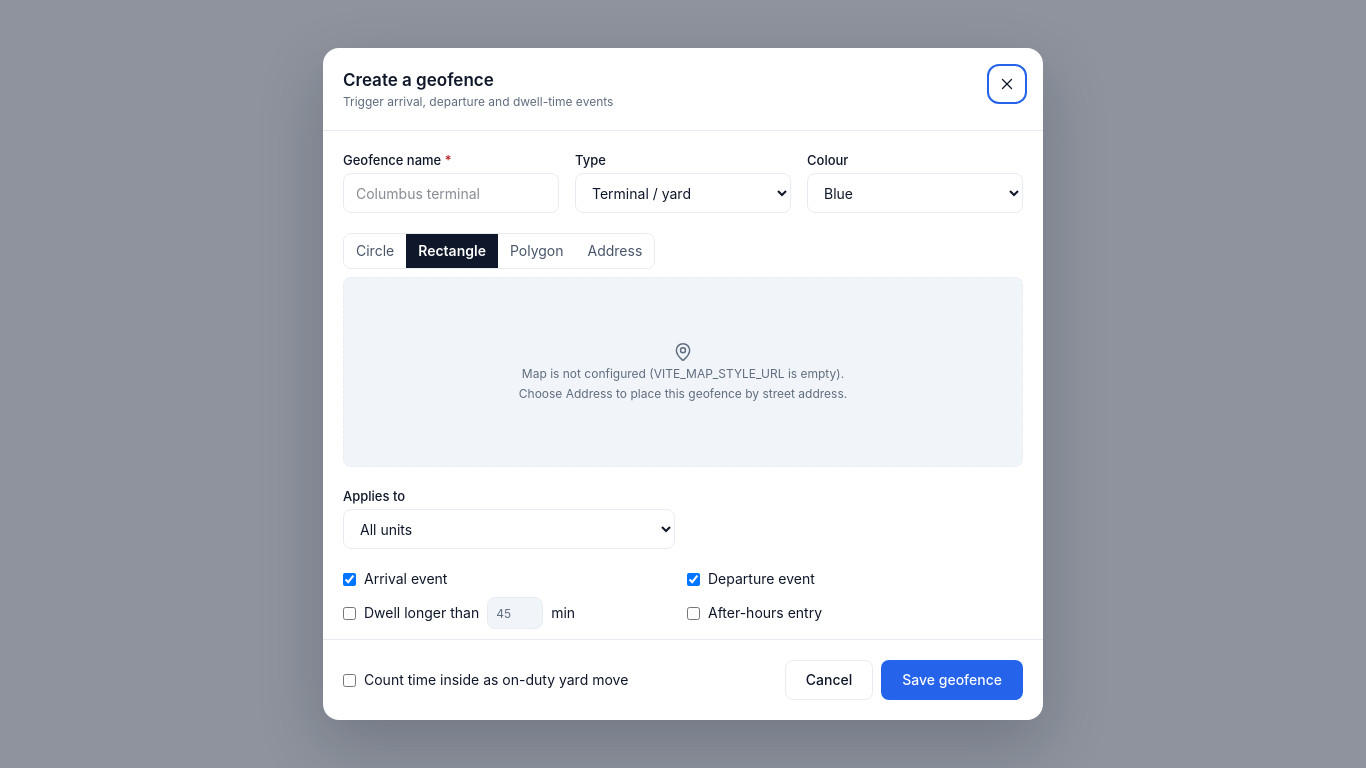
Test: 11.1 Create a geofence › surfaces GEOCODER_NOT_CONFIGURED in the in-modal banner
The width and height of the screenshot is (1366, 768).
Click the button "Address": [615, 251] box [576,234,654,268]
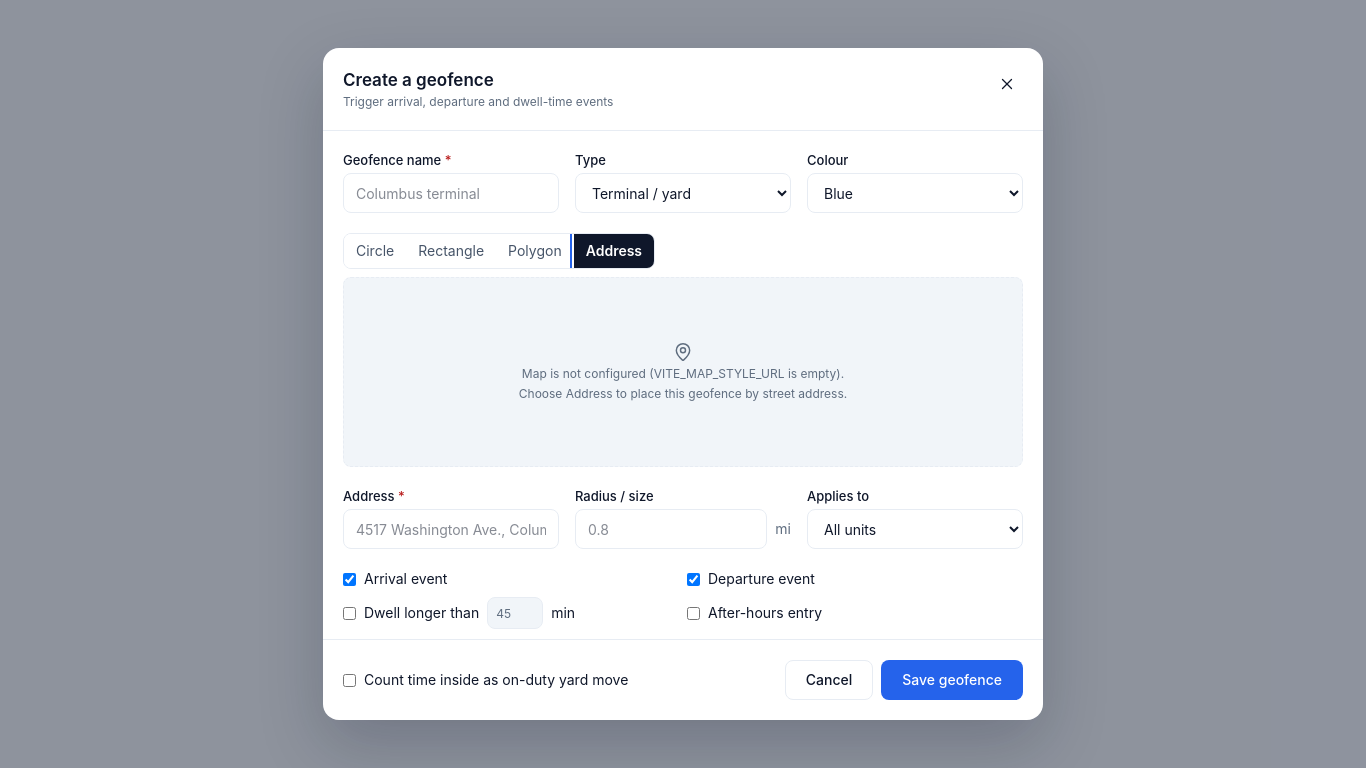
In the field with placeholder "Columbus terminal": [451, 193] box [343,173,559,213], type "Yard A"
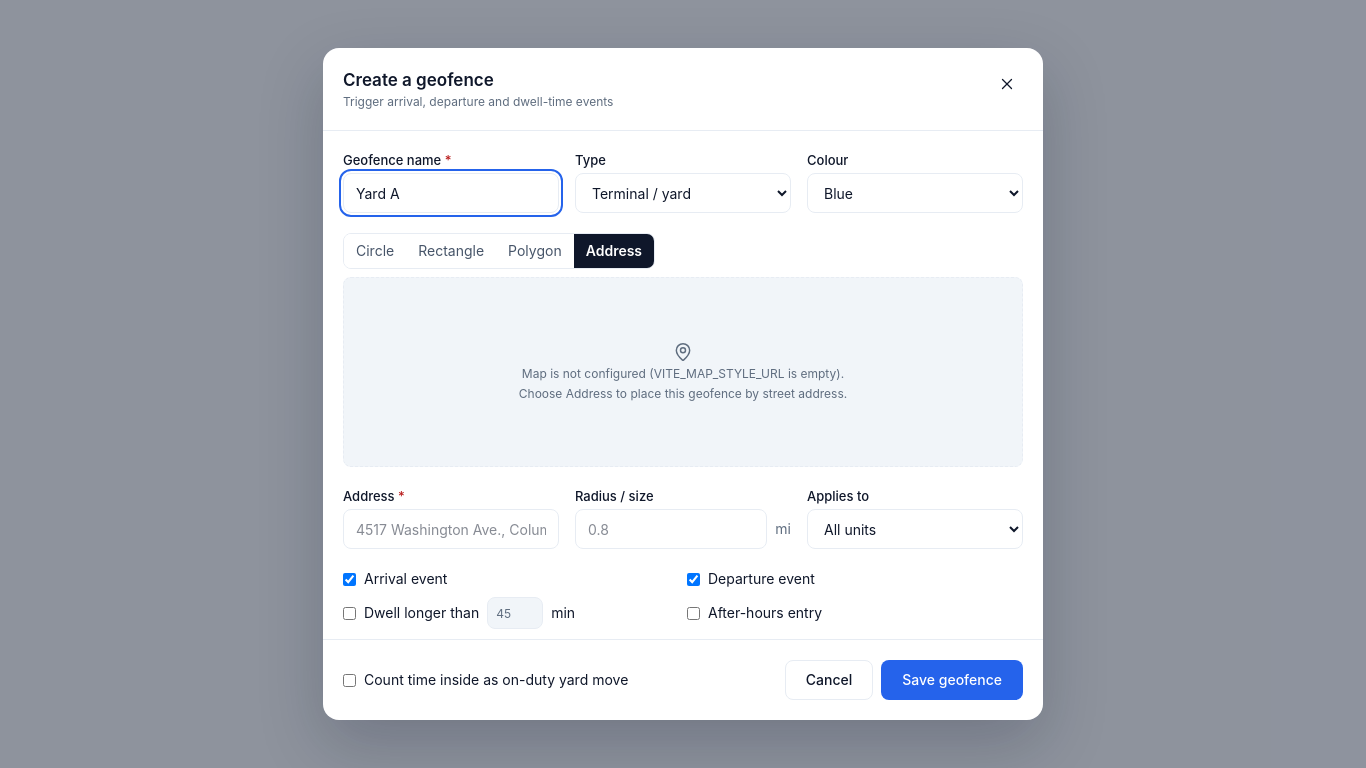
In the field with placeholder "4517 Washington Ave., Columbus, OH 43004": [451, 529] box [343,509,559,549], type "123 Main St"
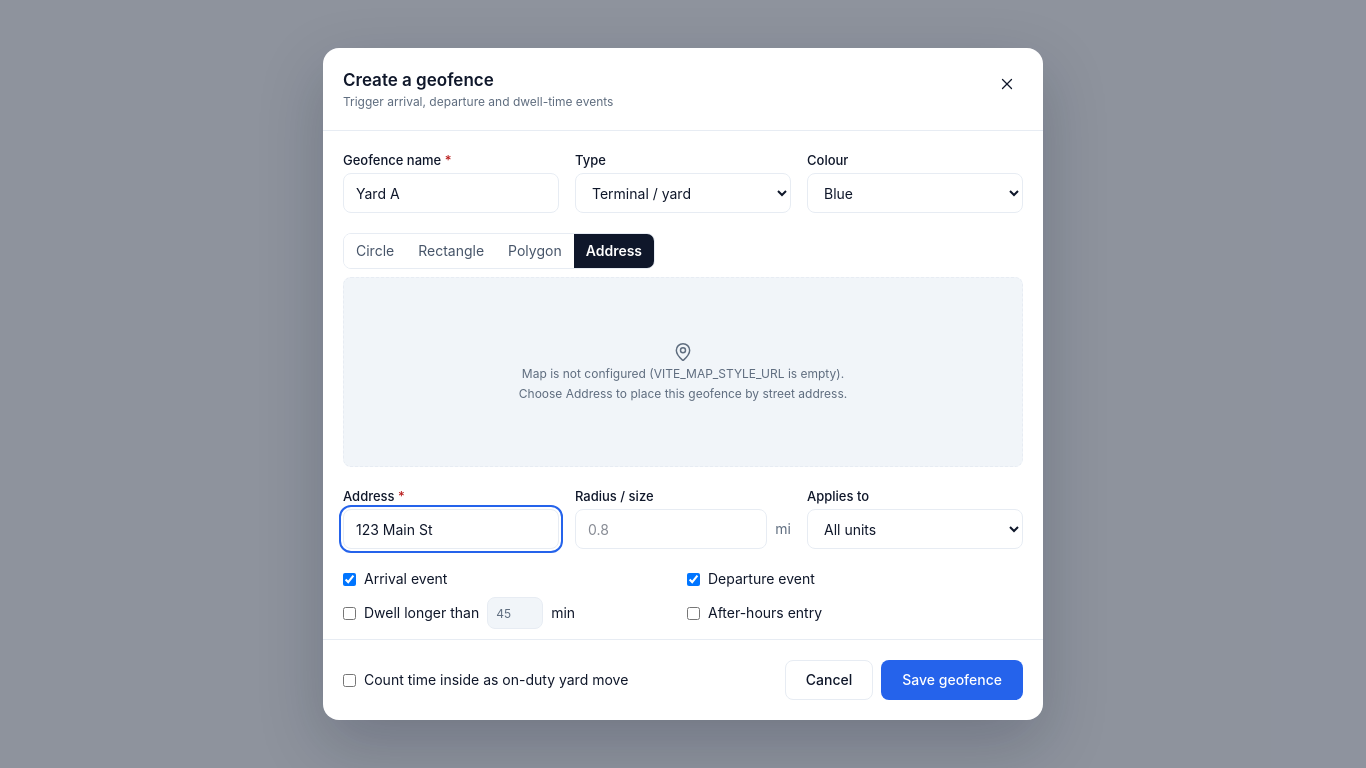
Click the button "Save geofence": [952, 680] box [881,660,1023,700]
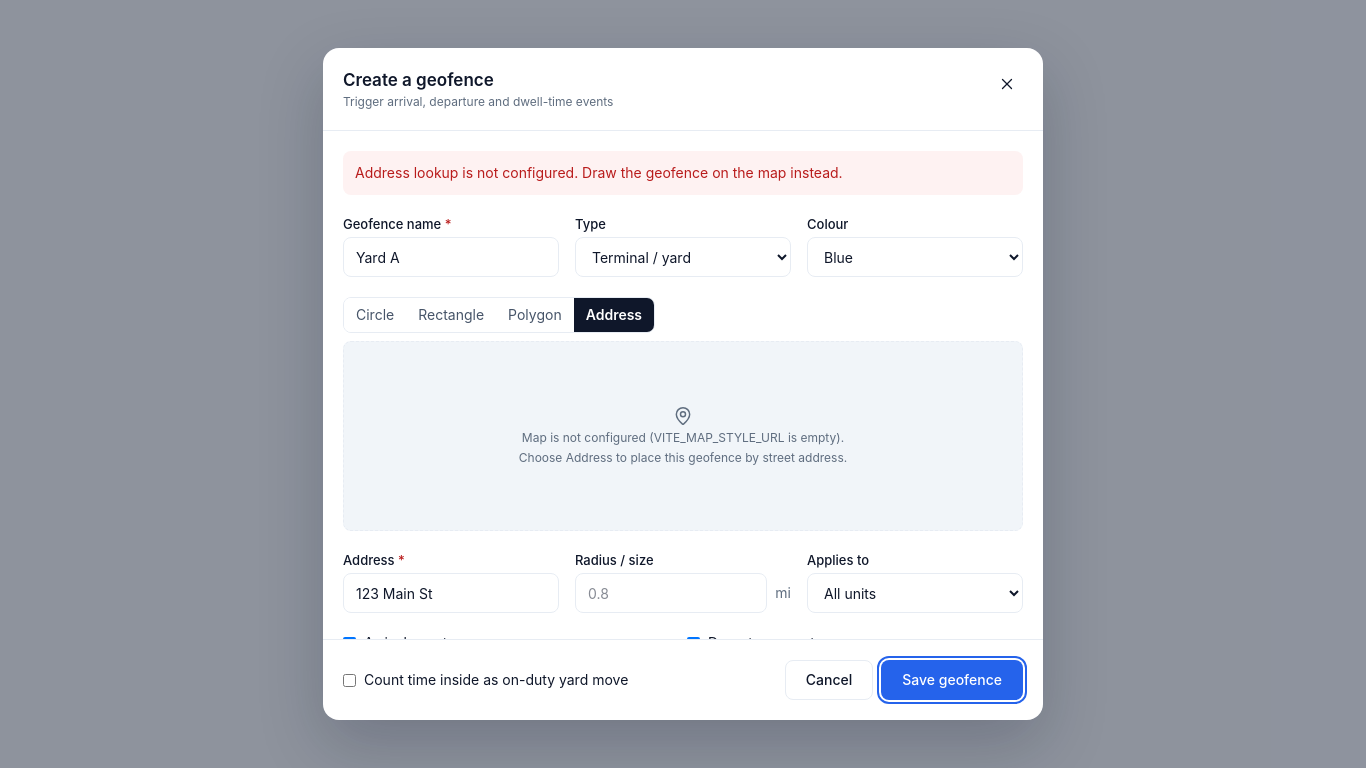
Now the message shows "Address lookup is not configured", box [355,164,843,181]
